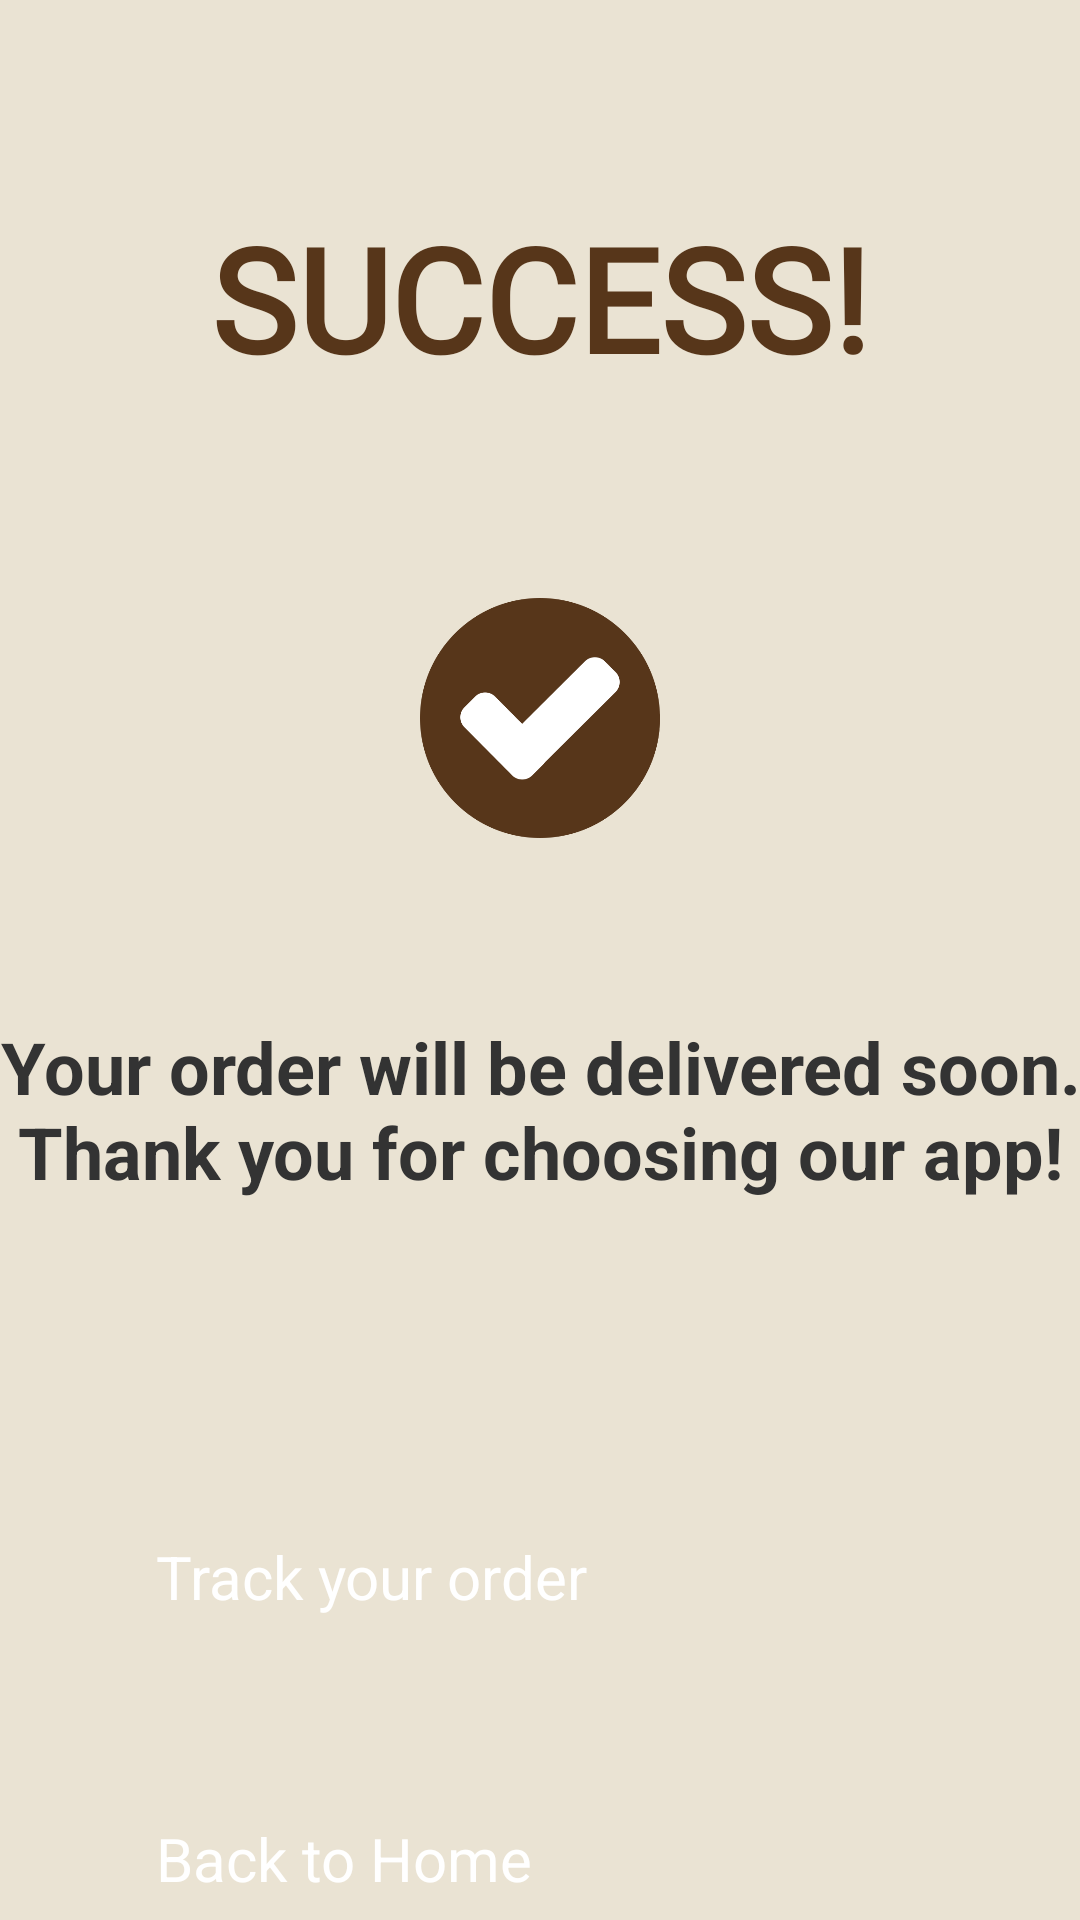

Icons on this 1080*1920 Android screen, each with the point to tap as (x=x, y=y):
checked: (x=540, y=718)
